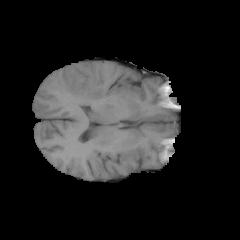glioma: (56, 63, 117, 106)
